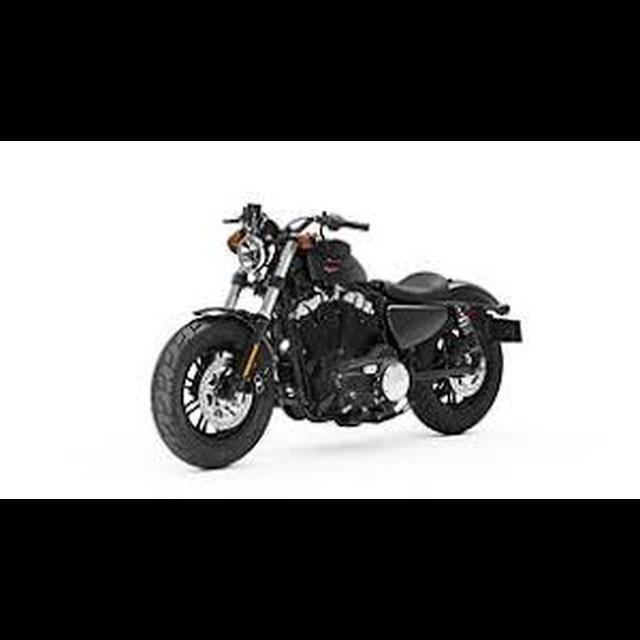motorcycle: (145, 195, 527, 472)
